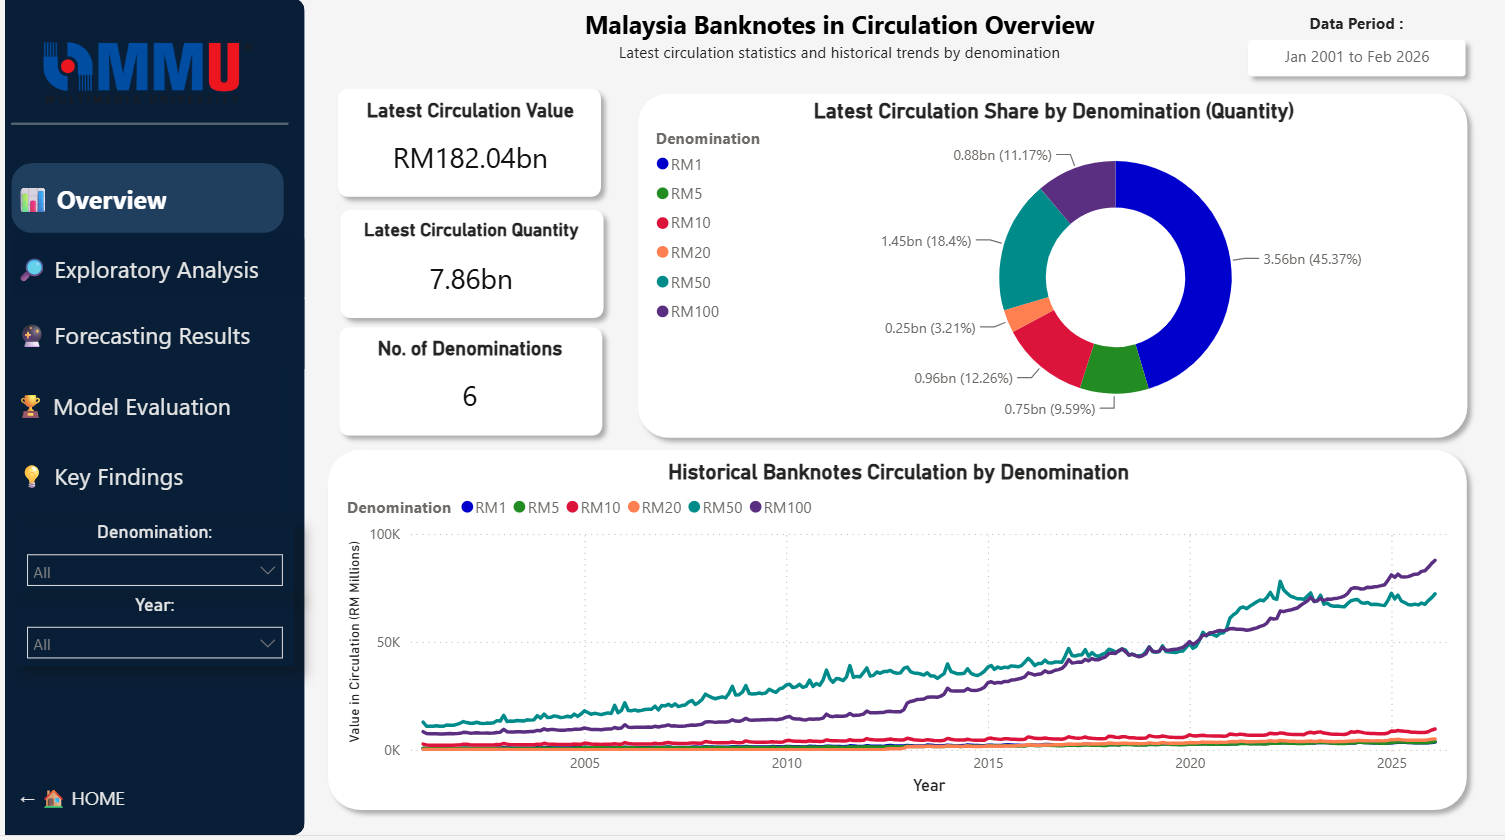

This screenshot's page, from the dashboard's own definition file:
{"tool":"powerbi","page":{"name":"Overview","canvas":[1280,720],"ordinal":4},"visuals":[{"type":"shape","box":[0,0,258,720.4],"z":0},{"type":"shape","box":[0,0,192.1,720.4],"z":1000},{"type":"shape","box":[269,380.1,997.6,328],"z":2000},{"type":"shape","box":[277.7,68.3,244.3,111.1],"z":3000},{"type":"actionButton","box":[5.8,141.9,234.6,60.4],"z":4000},{"type":"actionButton","box":[5.5,201.7,252.5,60.4],"z":5000},{"type":"shape","box":[5.5,90.6,238.8,35.7],"z":6000},{"type":"actionButton","box":[5.5,259.3,252.5,60.4],"z":7000},{"type":"actionButton","box":[4.4,320.3,234.6,60.4],"z":8000},{"type":"actionButton","box":[5.8,380.7,234.6,60.4],"z":9000},{"type":"image","box":[30.2,20.6,185.2,87.8],"z":10000},{"type":"textbox","box":[419.1,2.9,597.2,65.6],"z":11000},{"type":"shape","box":[535.2,72.7,731.4,314.2],"z":12000},{"type":"cardVisual","title":"Latest Circulation Value","fields":{"Data":["actual_banknotes_long.Latest Circulation"]},"box":[296.4,86.4,207.2,81],"z":13000},{"type":"shape","box":[1060.5,26.5,205.1,49.5],"z":14000},{"type":"textbox","box":[1112.3,7.1,101.5,34.3],"z":15000},{"type":"cardVisual","title":"Active Denominations","fields":{"Data":["actual_banknotes_long.Latest Date"]},"box":[1066.5,20.5,193,55.5],"z":16000},{"type":"lineChart","title":"Historical Banknotes Circulation by Denomination","fields":{"Series":["actual_banknotes_long.denomination"],"Category":["DateTable.Date.Variation.Date Hierarchy.Year","DateTable.Date.Variation.Date Hierarchy.Month"],"Y":["Sum(actual_banknotes_long.actual_value_rm_million)"]},"box":[289.5,396.6,959.2,293.7],"z":17000},{"type":"donutChart","title":"Latest Circulation Share by Denomination (Quantity)","fields":{"Category":["actual_banknotes_long.denomination"],"Y":["actual_banknotes_long.Latest Circulation Quantity"]},"box":[554.4,86.4,694.3,288.2],"z":18000},{"type":"shape","box":[280.1,172.7,244.3,111.1],"z":19000},{"type":"cardVisual","title":"Latest Circulation Quantity","fields":{"Data":["actual_banknotes_long.Latest Circulation Quantity"]},"box":[299.1,190.7,204.5,81],"z":20000},{"type":"shape","box":[279,273.7,244.3,111.1],"z":21000},{"type":"cardVisual","title":"No. of Denominations","fields":{"Data":["Count(actual_banknotes_long.denomination)"]},"box":[298.2,291.6,204.5,81],"z":22000},{"type":"slicer","title":"Denomination:","fields":{"Values":["DenominationTable.denomination"]},"box":[8.2,450.1,240.1,61.7],"z":23000},{"type":"slicer","title":"Year:","fields":{"Values":["DateTable.Date.Variation.Date Hierarchy.Year"]},"box":[8.2,513.2,240.1,61.7],"z":24000},{"type":"actionButton","box":[8.2,668.3,177,39.8],"z":25000}]}

Visuals, with their boxes on the page's 1280x720 design canvas (x1, y1, x2, y2). These are canvas units, not pixel positions in the 1505x840 screenshot, which may show the page scaled, cropped or inside an application window:
shape: 0:0:258:720
shape: 0:0:192:720
shape: 269:380:1267:708
shape: 278:68:522:179
actionButton: 6:142:240:202
actionButton: 6:202:258:262
shape: 6:91:244:126
actionButton: 6:259:258:320
actionButton: 4:320:239:381
actionButton: 6:381:240:441
image: 30:21:215:108
textbox: 419:3:1016:68
shape: 535:73:1267:387
"Latest Circulation Value" cardVisual: 296:86:504:167
shape: 1060:26:1266:76
textbox: 1112:7:1214:41
"Active Denominations" cardVisual: 1066:20:1260:76
"Historical Banknotes Circulation by Denomination" lineChart: 290:397:1249:690
"Latest Circulation Share by Denomination (Quantity)" donutChart: 554:86:1249:375
shape: 280:173:524:284
"Latest Circulation Quantity" cardVisual: 299:191:504:272
shape: 279:274:523:385
"No. of Denominations" cardVisual: 298:292:503:373
"Denomination:" slicer: 8:450:248:512
"Year:" slicer: 8:513:248:575
actionButton: 8:668:185:708
